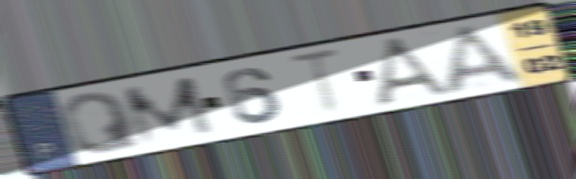6: (220, 67, 285, 125)
A: (440, 22, 531, 98), (372, 33, 460, 108)
M: (117, 72, 221, 149)
Q: (58, 89, 146, 156)
T: (284, 46, 346, 119)
